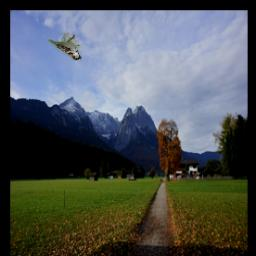Sparrow: (48, 32, 82, 60)
